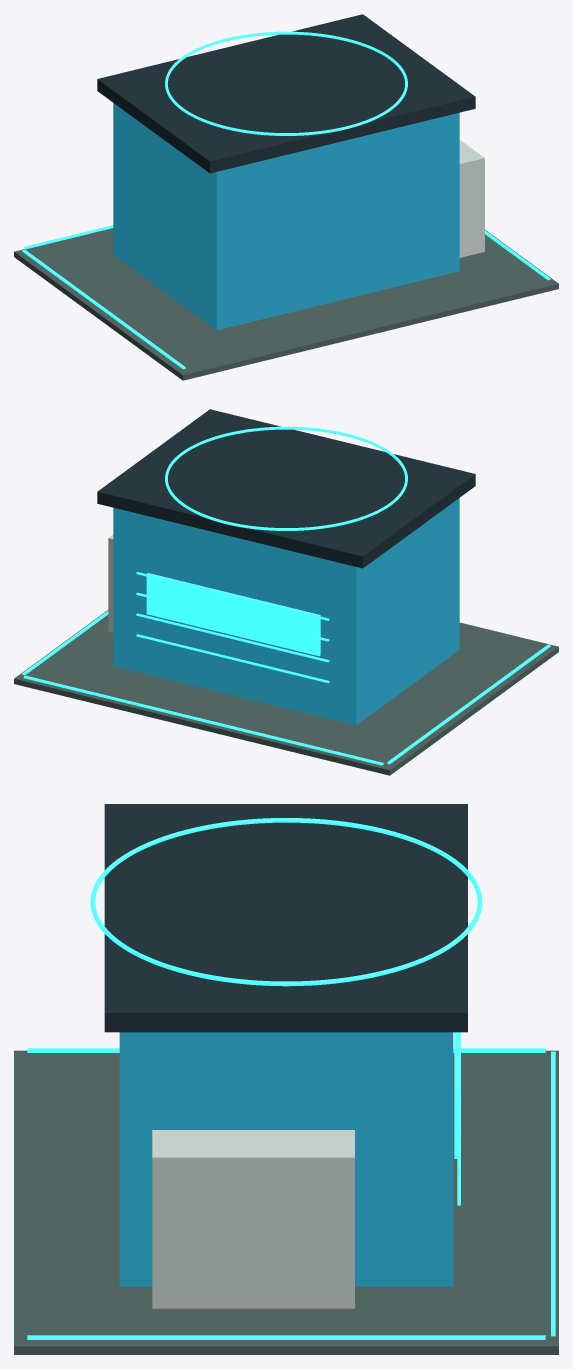
Rendered from control-module.glb.
The picture shows the model from 3 angles, top to bottom: view 1: azimuth 30°, elevation 25°; view 2: azimuth 150°, elevation 25°; view 3: azimuth 270°, elevation 25°; orthographic projection. The views are drawn at different scales.
Parts seen in each view (by area): view 1: rj-control-building-module-command-block, rj-control-building-module-dark-roof-deck, rj-control-building-module-service-pad, rj-control-building-module-side-model-room, rj-control-building-module-decision-ring, rj-control-building-module-side-glow-rail-left; view 2: rj-control-building-module-command-block, rj-control-building-module-dark-roof-deck, rj-control-building-module-service-pad, rj-control-building-module-tactical-wall, rj-control-building-module-decision-ring, rj-control-building-module-front-glow-rail, rj-control-building-module-side-glow-rail-left, rj-control-building-module-window-band-2, rj-control-building-module-window-band-1, rj-control-building-module-side-model-room, rj-control-building-module-window-band-3, rj-control-building-module-window-band-4; view 3: rj-control-building-module-dark-roof-deck, rj-control-building-module-service-pad, rj-control-building-module-command-block, rj-control-building-module-side-model-room, rj-control-building-module-decision-ring, rj-control-building-module-side-glow-rail-right, rj-control-building-module-front-glow-rail, rj-control-building-module-side-glow-rail-left, rj-control-building-module-tactical-wall.
Part boxes in pixels (x1=…): rj-control-building-module-command-block: x1=113, y1=103, x2=459, y2=330; rj-control-building-module-dark-roof-deck: x1=97, y1=14, x2=475, y2=173; rj-control-building-module-service-pad: x1=14, y1=228, x2=558, y2=380; rj-control-building-module-side-model-room: x1=459, y1=140, x2=484, y2=257; rj-control-building-module-decision-ring: x1=165, y1=31, x2=407, y2=135; rj-control-building-module-side-glow-rail-left: x1=22, y1=249, x2=185, y2=369; rj-control-building-module-command-block: x1=113, y1=498, x2=459, y2=725; rj-control-building-module-dark-roof-deck: x1=97, y1=409, x2=475, y2=568; rj-control-building-module-service-pad: x1=14, y1=610, x2=558, y2=775; rj-control-building-module-tactical-wall: x1=146, y1=573, x2=320, y2=656; rj-control-building-module-decision-ring: x1=165, y1=426, x2=407, y2=530; rj-control-building-module-front-glow-rail: x1=23, y1=675, x2=383, y2=765; rj-control-building-module-side-glow-rail-left: x1=387, y1=644, x2=550, y2=764; rj-control-building-module-window-band-2: x1=136, y1=613, x2=329, y2=662; rj-control-building-module-window-band-1: x1=136, y1=634, x2=329, y2=683; rj-control-building-module-side-model-room: x1=108, y1=535, x2=113, y2=632; rj-control-building-module-window-band-3: x1=136, y1=592, x2=329, y2=641; rj-control-building-module-window-band-4: x1=136, y1=572, x2=329, y2=620; rj-control-building-module-dark-roof-deck: x1=104, y1=804, x2=467, y2=1032; rj-control-building-module-service-pad: x1=14, y1=1050, x2=558, y2=1354; rj-control-building-module-command-block: x1=119, y1=1032, x2=453, y2=1286; rj-control-building-module-side-model-room: x1=152, y1=1130, x2=354, y2=1308; rj-control-building-module-decision-ring: x1=90, y1=818, x2=482, y2=986; rj-control-building-module-side-glow-rail-right: x1=27, y1=1335, x2=545, y2=1339; rj-control-building-module-front-glow-rail: x1=551, y1=1051, x2=555, y2=1336; rj-control-building-module-side-glow-rail-left: x1=27, y1=1048, x2=545, y2=1052; rj-control-building-module-tactical-wall: x1=454, y1=1032, x2=459, y2=1158.
Bounding box in the file's own units: 11.75 × 5.69 × 9.15.
